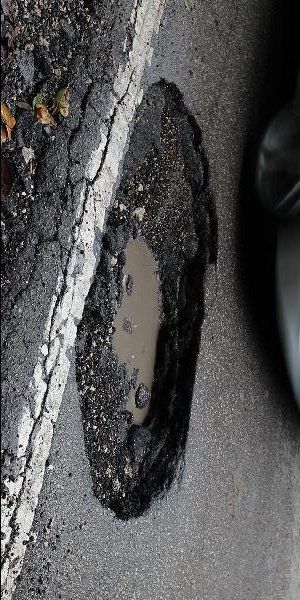pothole: (72, 73, 222, 522)
